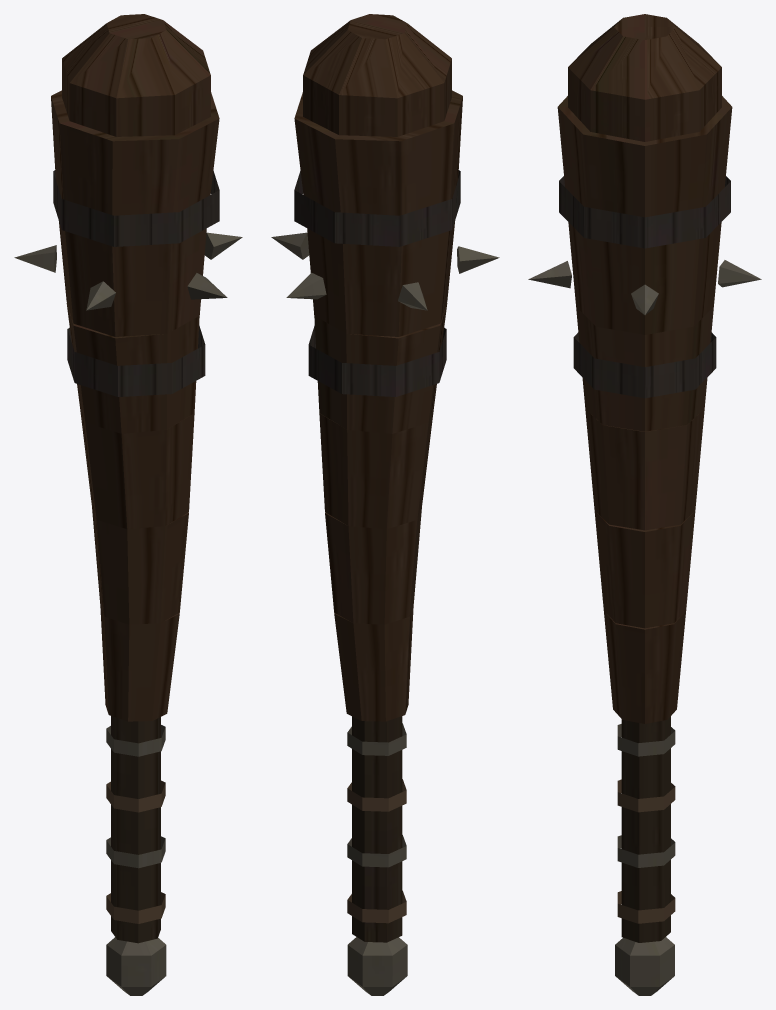
Rendered from wpn_club_01.glb.
The picture shows the model from 3 angles, left to right: view 1: azimuth 30°, elevation 25°; view 2: azimuth 150°, elevation 25°; view 3: azimuth 270°, elevation 25°; orthographic projection.
Visible parts, largest first — view 1: wpn_club_01; view 2: wpn_club_01; view 3: wpn_club_01.
Part boxes in pixels (x1,y1,x2,y2): wpn_club_01: (14,14,242,995); wpn_club_01: (271,14,499,995); wpn_club_01: (528,14,761,995).
Bounding box in the file's own units: 0.1809 × 0.865 × 0.1902.
5 materials, 5 textured.
